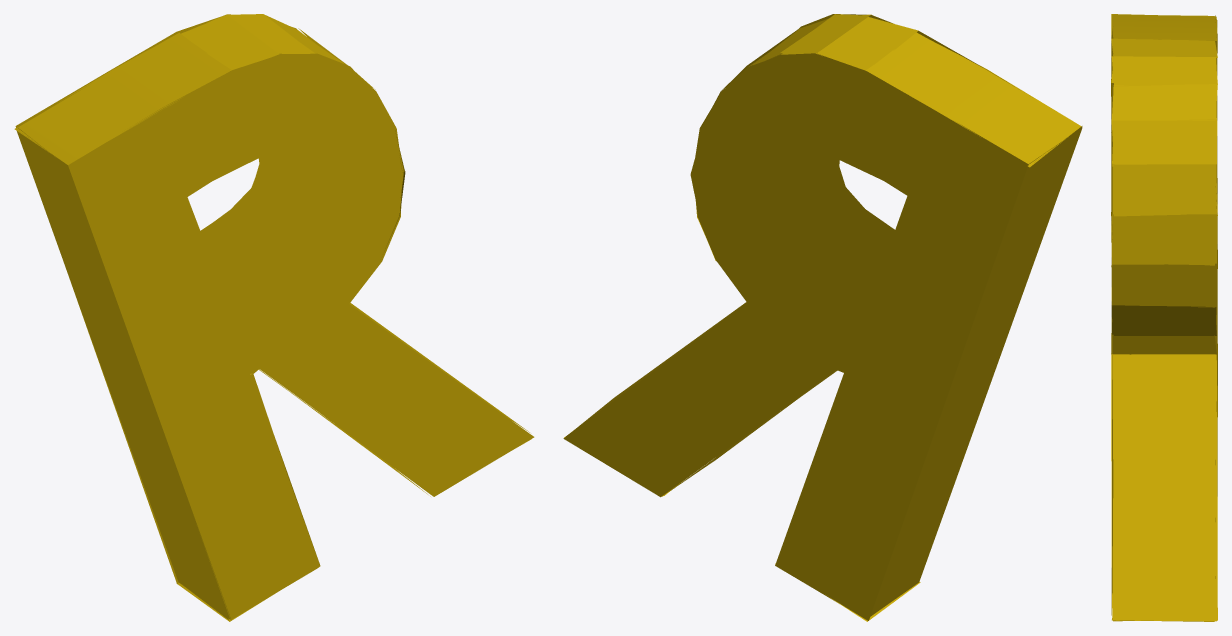
File: original-13.obj
The picture shows the model from 3 angles, left to right: view 1: azimuth 30°, elevation 25°; view 2: azimuth 150°, elevation 25°; view 3: azimuth 270°, elevation 25°; orthographic projection.
Parts seen in each view (by area): view 1: #ID86; view 2: #ID86; view 3: #ID86.
Part boxes in pixels (x1,y1,x2,y2): #ID86: (14, 14, 534, 621); #ID86: (563, 14, 1082, 621); #ID86: (1111, 14, 1217, 621).
Size of the model in its own units: 0.0303 by 0.0345 by 0.00607.
